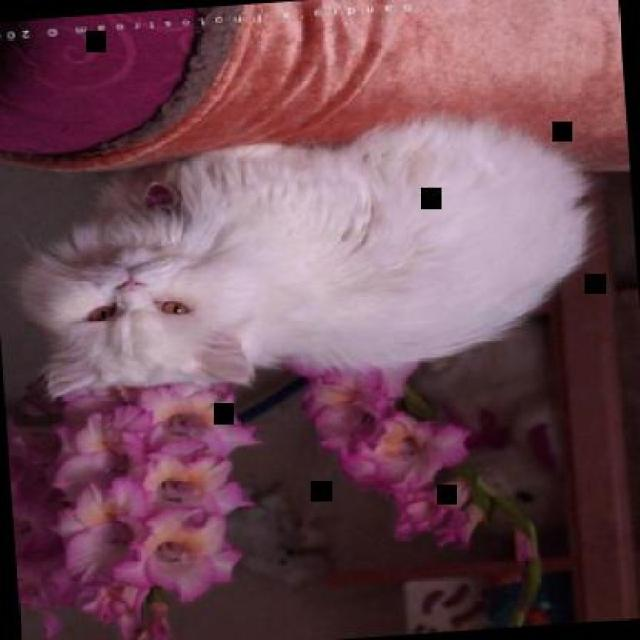cat: (19, 108, 588, 402)
